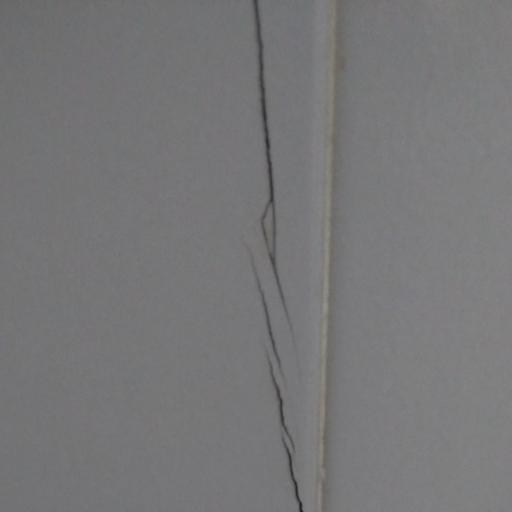minor_crack: (224, 0, 307, 512)
